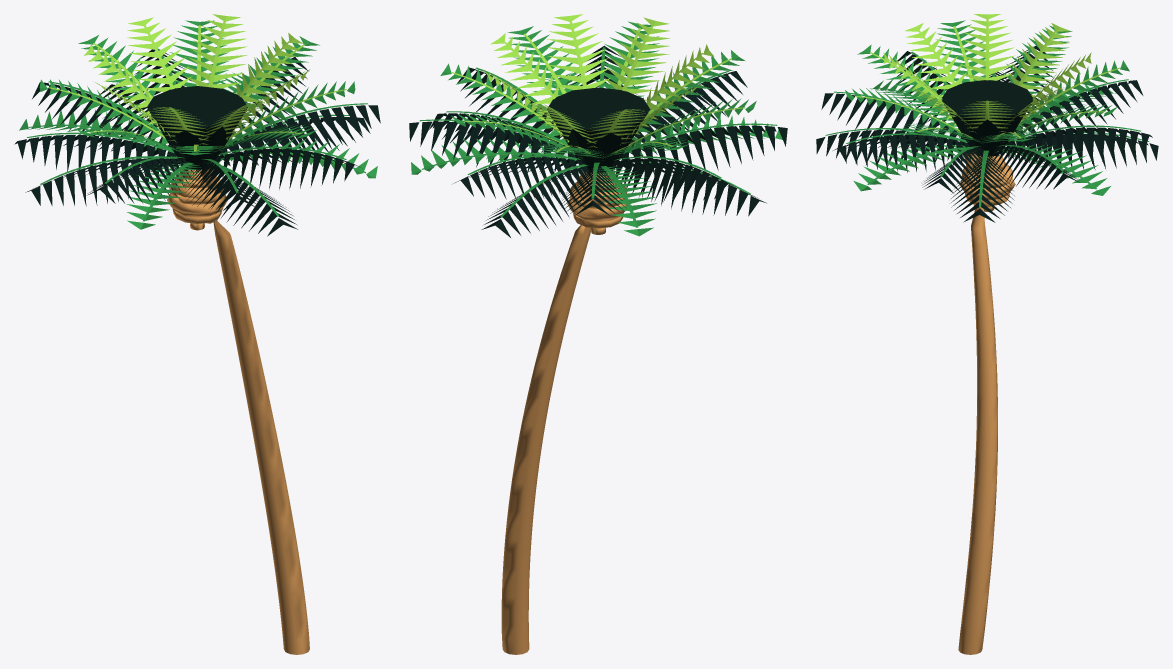
File: nagai_palm_curved.glb
3 renders of one model, left to right at view 1: azimuth 30°, elevation 25°; view 2: azimuth 150°, elevation 25°; view 3: azimuth 270°, elevation 25°, orthographic. The views are drawn at different scales.
Parts seen in each view (by area): view 1: PalmFronds, PalmTrunk; view 2: PalmFronds, PalmTrunk; view 3: PalmFronds, PalmTrunk.
Part boxes in pixels (x1=…): PalmFronds: x1=14, y1=14, x2=380, y2=236; PalmTrunk: x1=167, y1=168, x2=309, y2=654; PalmFronds: x1=409, y1=14, x2=787, y2=237; PalmTrunk: x1=501, y1=172, x2=627, y2=654; PalmFronds: x1=816, y1=14, x2=1158, y2=222; PalmTrunk: x1=958, y1=152, x2=1015, y2=654.
Bounding box in the file's own units: 7.01 × 12.47 × 7.01.
